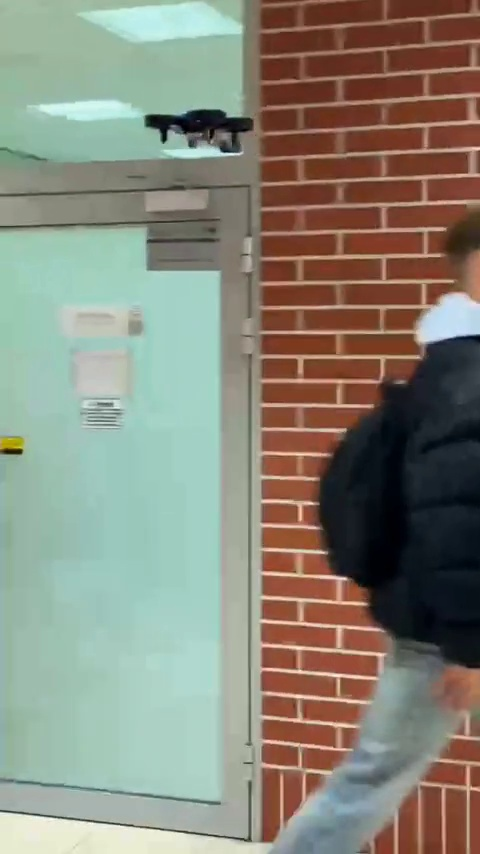drone: (146, 111, 252, 153)
